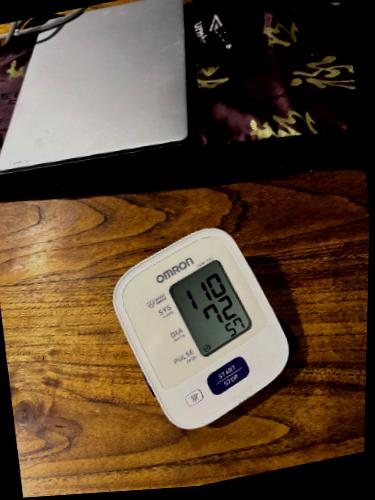bpm: (163, 256, 257, 359)
